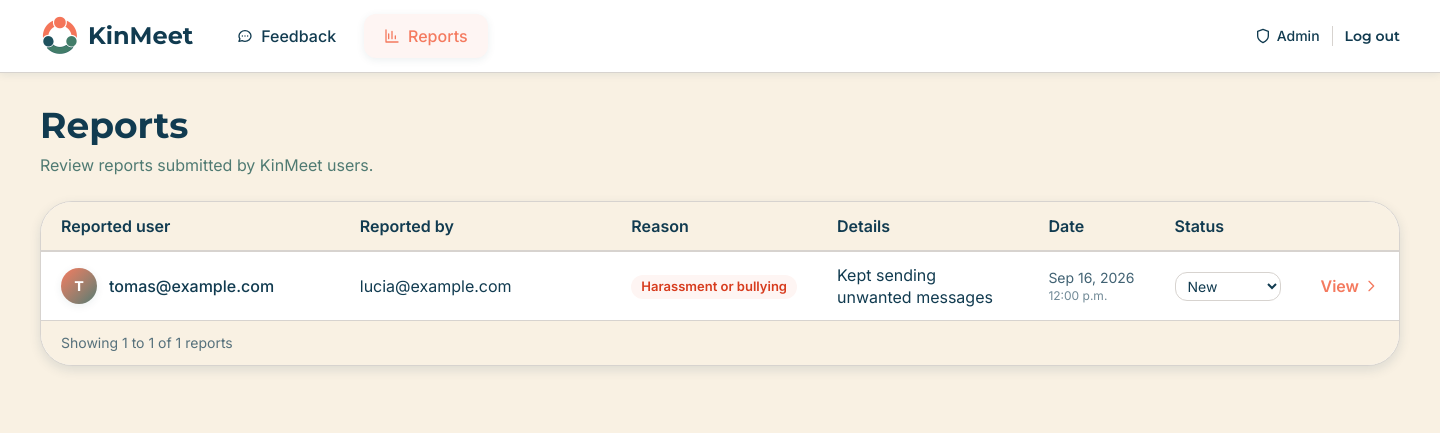
AdminPage — reports › surfaces a status update failure without losing the row
This screenshot has width=1440, height=433.
Select "Resolved" in the dropdown: (1228,286) 1174,272 -> 1280,300
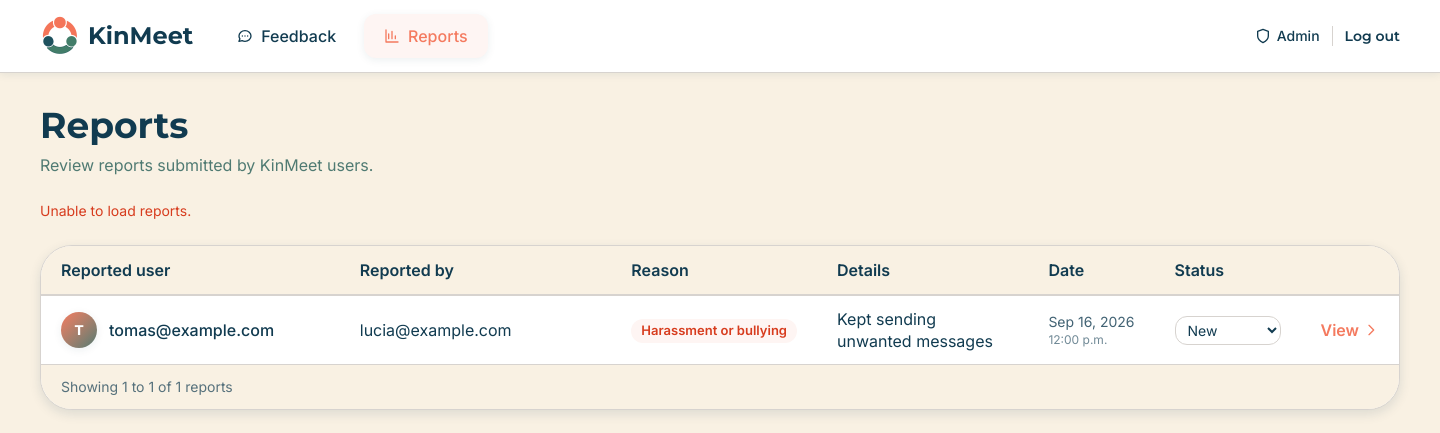
Expected: the text "tomas@example.com" is shown, 109,318 -> 274,342
Expected: the message "Unable to load reports." is shown, 40,202 -> 191,219
